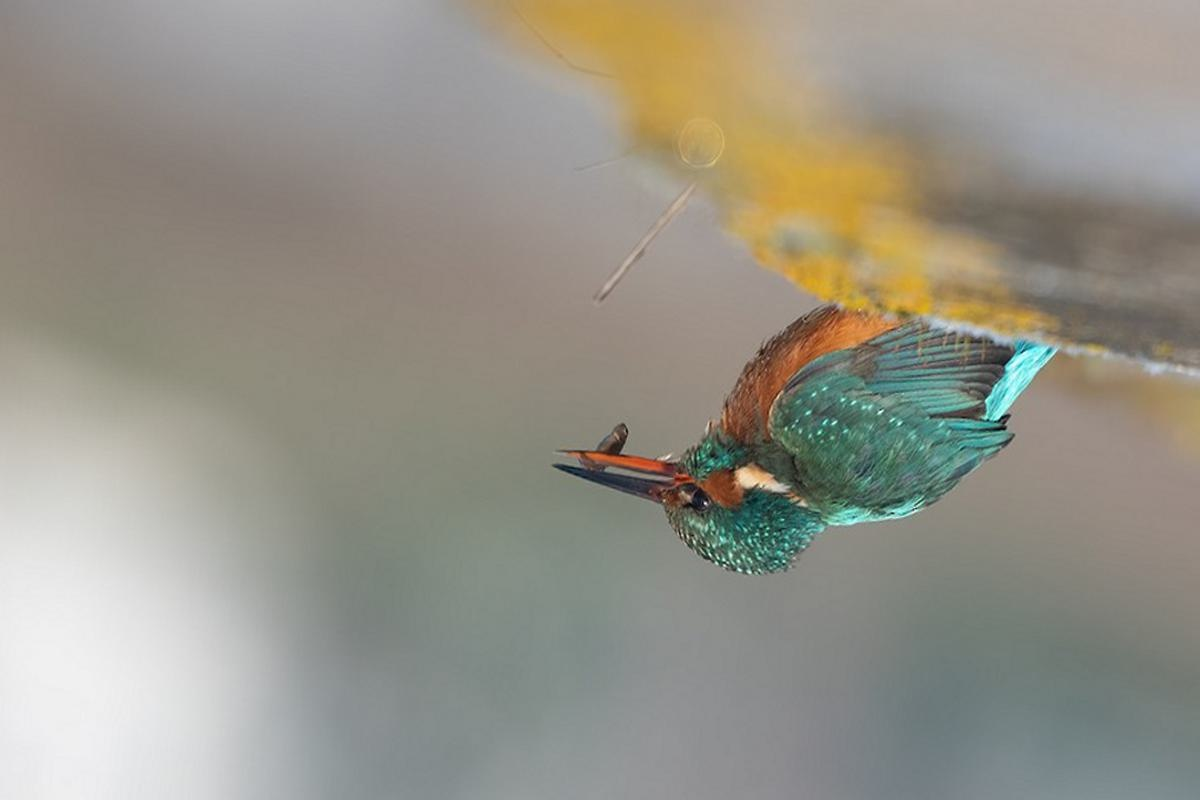kingfisher: (530, 238, 1176, 598)
